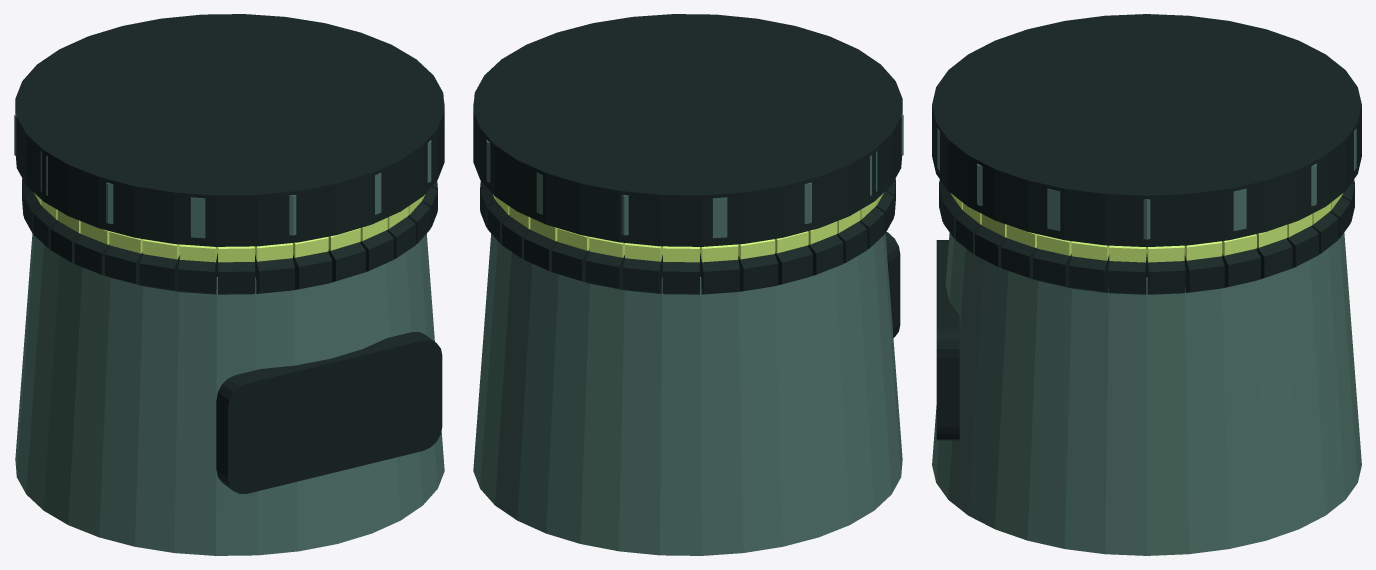
File: sealjar.glb
3 views of the same model, side by side, from view 1: azimuth 30°, elevation 25°; view 2: azimuth 150°, elevation 25°; view 3: azimuth 270°, elevation 25° (orthographic).
Visible parts, largest first — view 1: jar base, lid, label, shoulder11, shoulder9, shoulder12, shoulder10, shoulder8, shoulder13, shoulder7, shoulder14, shoulder6 (+10 smaller); view 2: jar base, lid, shoulder20, shoulder22, shoulder19, shoulder21, shoulder23, shoulder18, label, shoulder24, shoulder17, shoulder25 (+10 smaller); view 3: jar base, lid, label, shoulder1, shoulder30, shoulder0, shoulder31, shoulder2, shoulder29, shoulder3, shoulder28, shoulder4 (+11 smaller).
Boxes of the visible parts, x1,y1,x2,y2 form: jar base: [15, 233, 444, 555]; lid: [15, 14, 444, 246]; label: [216, 332, 442, 493]; shoulder11: [178, 254, 217, 294]; shoulder9: [255, 254, 294, 293]; shoulder12: [139, 254, 179, 291]; shoulder10: [217, 253, 255, 294]; shoulder8: [292, 251, 332, 289]; shoulder13: [105, 245, 143, 285]; shoulder7: [328, 242, 365, 283]; shoulder14: [74, 234, 109, 275]; shoulder6: [360, 230, 393, 271]; jar base: [473, 233, 902, 555]; lid: [473, 14, 902, 246]; shoulder20: [700, 254, 739, 294]; shoulder22: [623, 254, 662, 293]; shoulder19: [738, 254, 778, 291]; shoulder21: [662, 253, 700, 294]; shoulder23: [585, 251, 625, 289]; shoulder18: [774, 245, 812, 285]; label: [885, 232, 900, 337]; shoulder24: [552, 242, 589, 283]; shoulder17: [808, 234, 843, 275]; shoulder25: [524, 230, 557, 271]; jar base: [932, 233, 1361, 555]; lid: [932, 14, 1361, 246]; label: [936, 240, 959, 440]; shoulder1: [1069, 255, 1109, 292]; shoulder30: [1184, 255, 1224, 292]; shoulder0: [1108, 254, 1146, 294]; shoulder31: [1147, 254, 1185, 294]; shoulder2: [1033, 248, 1071, 288]; shoulder29: [1222, 248, 1260, 288]; shoulder3: [1001, 238, 1037, 278]; shoulder28: [1256, 238, 1292, 278]; shoulder4: [975, 226, 1007, 267].
Size of the model in its own units: 1.06 by 0.98 by 1.06.
